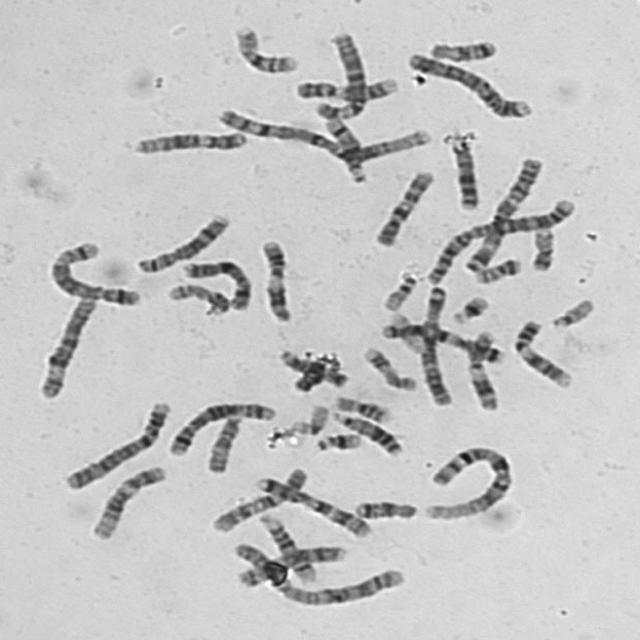A1: (210, 102, 436, 164), (417, 440, 516, 522)
A2: (419, 193, 578, 287), (227, 536, 408, 608)
A3: (457, 152, 546, 277), (414, 281, 454, 407)
B4: (56, 395, 174, 492), (401, 46, 535, 120)
B5: (41, 235, 143, 308), (162, 396, 280, 458)
C10: (204, 461, 312, 534), (368, 164, 437, 249)
C11: (253, 234, 295, 323), (460, 326, 502, 412)
C12: (84, 459, 168, 542), (125, 125, 250, 156)
C6: (29, 289, 100, 400), (308, 26, 370, 121)
C7: (250, 470, 375, 539), (376, 316, 506, 366)
C8: (128, 208, 232, 274), (230, 539, 349, 588)
C9: (506, 314, 576, 389), (288, 71, 402, 103)
D13: (324, 406, 404, 457), (444, 129, 481, 212)
D14: (252, 508, 320, 584), (315, 110, 370, 184)
D15: (272, 344, 351, 388), (200, 409, 243, 475)
E16: (226, 21, 301, 75), (326, 390, 394, 424)
E17: (357, 340, 419, 392), (160, 278, 232, 316)
E18: (424, 34, 499, 63), (348, 494, 419, 522)
F19: (382, 310, 426, 355), (282, 399, 330, 436)
F20: (468, 252, 524, 284), (525, 223, 557, 273)
G21: (445, 290, 491, 325), (309, 427, 363, 453)
G22: (544, 293, 597, 330), (376, 267, 418, 312)
X: (176, 254, 254, 312)
